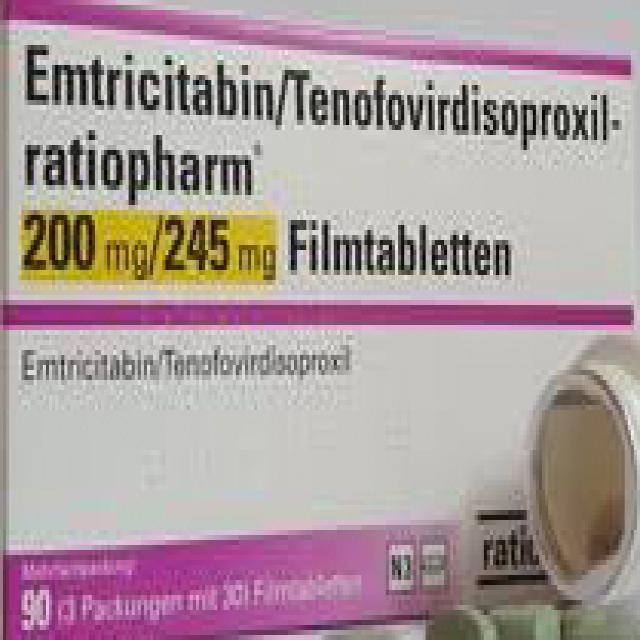drug-name: (22, 126, 254, 206)
